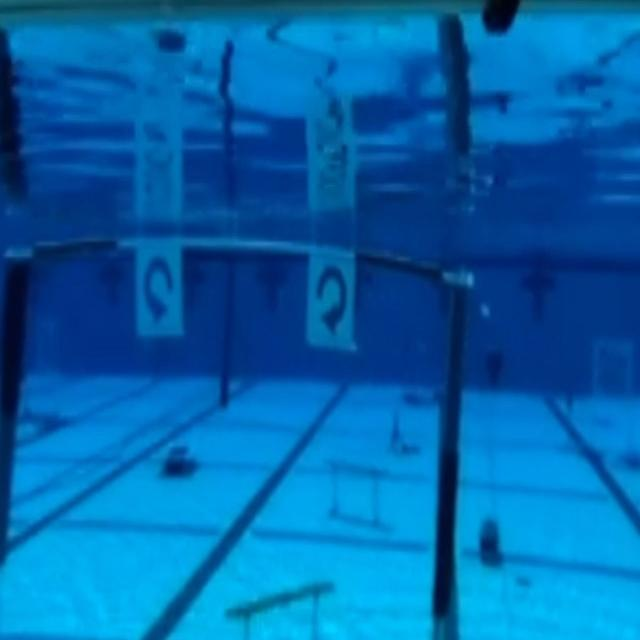Gate: (0, 224, 476, 628)
